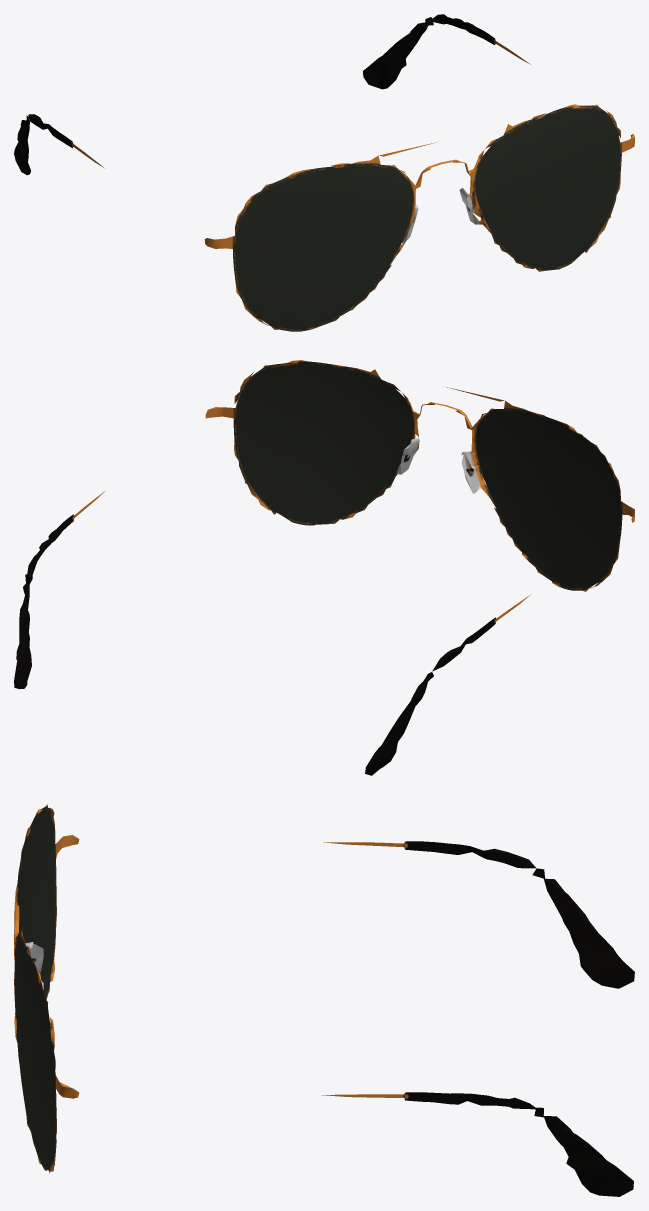
File: wear_aviator.glb
3 renders of one model, top to bottom at view 1: azimuth 30°, elevation 25°; view 2: azimuth 150°, elevation 25°; view 3: azimuth 270°, elevation 25°, orthographic. The views are drawn at different scales.
Parts seen in each view (by area): view 1: mesh; view 2: mesh; view 3: mesh.
Part boxes in pixels (bbox=[...]): mesh: bbox=[14, 14, 634, 331]; mesh: bbox=[14, 360, 634, 775]; mesh: bbox=[14, 804, 634, 1196].
Size of the model in its own units: 0.1323 by 0.05 by 0.137.
1 material, 1 textured.
